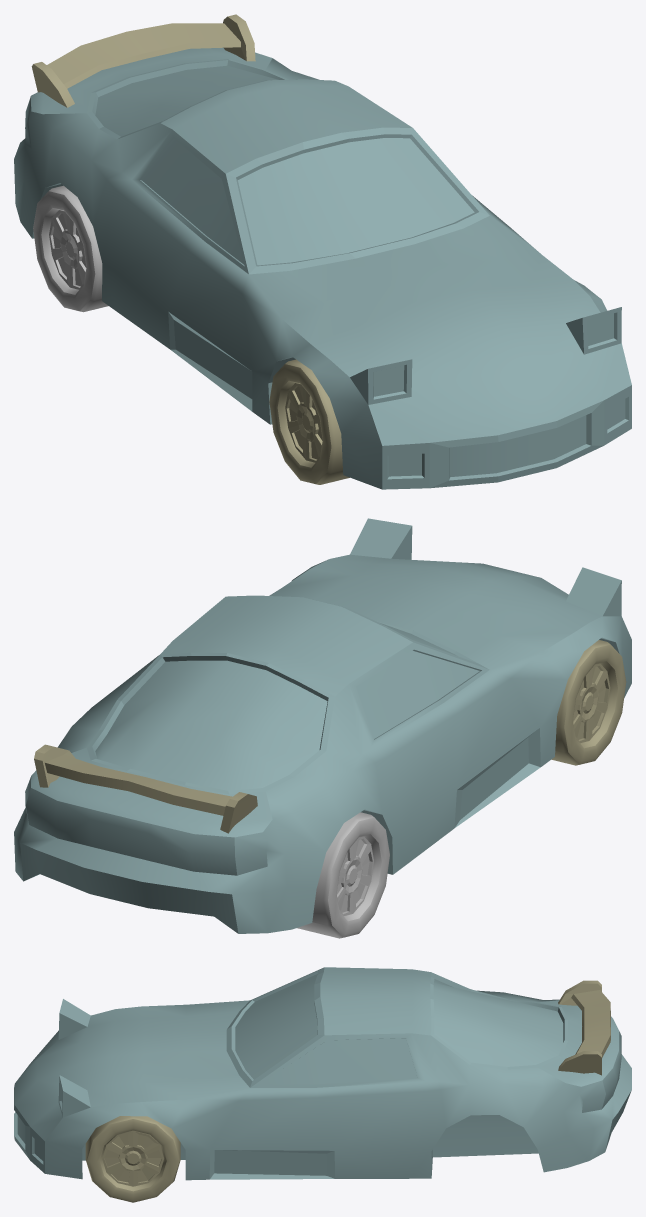
File: car_crashed.fbx
3 views of the same model, one above another, from view 1: azimuth 30°, elevation 25°; view 2: azimuth 150°, elevation 25°; view 3: azimuth 270°, elevation 25° (orthographic). The views are drawn at different scales.
Parts seen in each view (by area): view 1: mazda_rx8, spoiler1, tire04, tire03; view 2: mazda_rx8, tire03, tire04, spoiler1; view 3: mazda_rx8, tire01, spoiler1.
Boxes of the visible parts, x1,y1,x2,y2 form: mazda_rx8: (14, 47, 631, 489); spoiler1: (31, 14, 255, 107); tire04: (269, 359, 349, 484); tire03: (33, 185, 108, 312); mazda_rx8: (14, 518, 631, 933); tire03: (297, 812, 389, 938); tire04: (551, 640, 626, 765); spoiler1: (34, 744, 257, 833); mazda_rx8: (14, 967, 631, 1180); tire01: (85, 1116, 180, 1202); spoiler1: (558, 980, 610, 1075).
Size of the model in its own units: 1.75 by 1.23 by 4.25.
